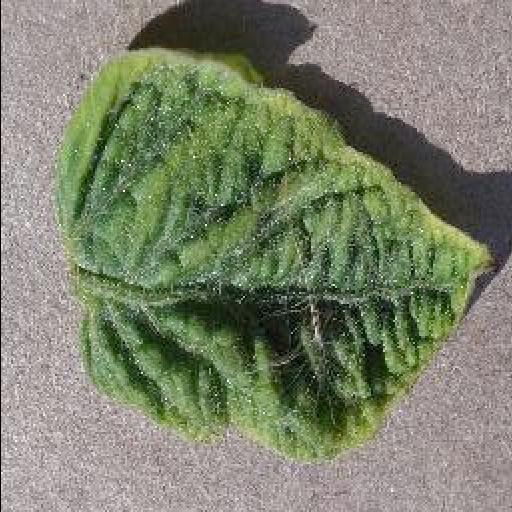disease_tomato: (58, 50, 492, 467)
